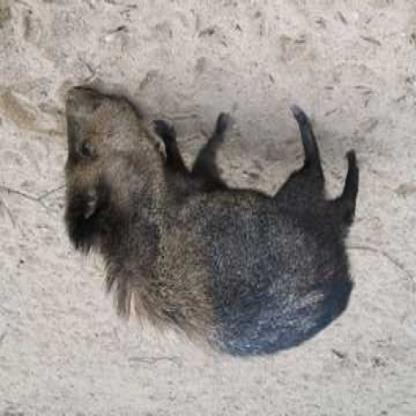boar: (11, 92, 377, 358)
